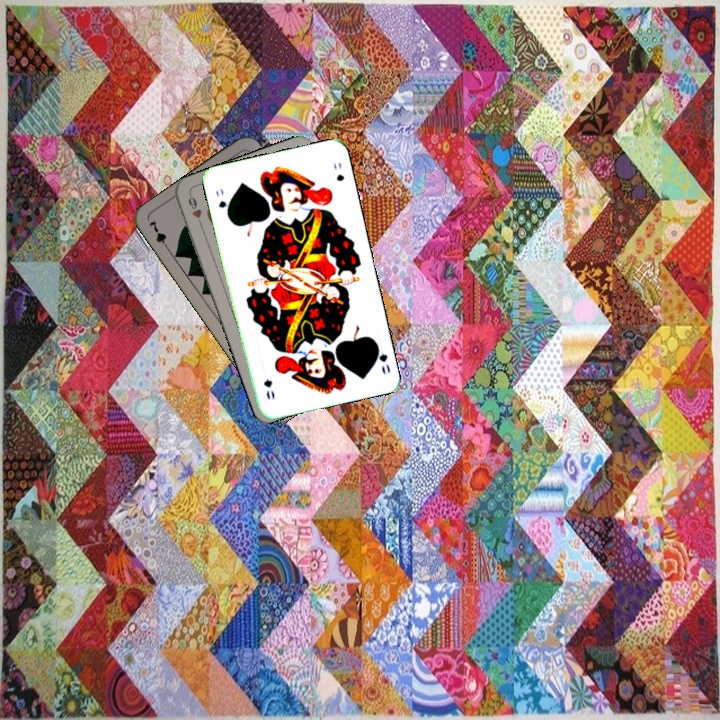G7: (144, 216, 173, 254)
GO: (371, 338, 393, 377), (212, 184, 232, 220)
H9: (184, 191, 206, 230)
